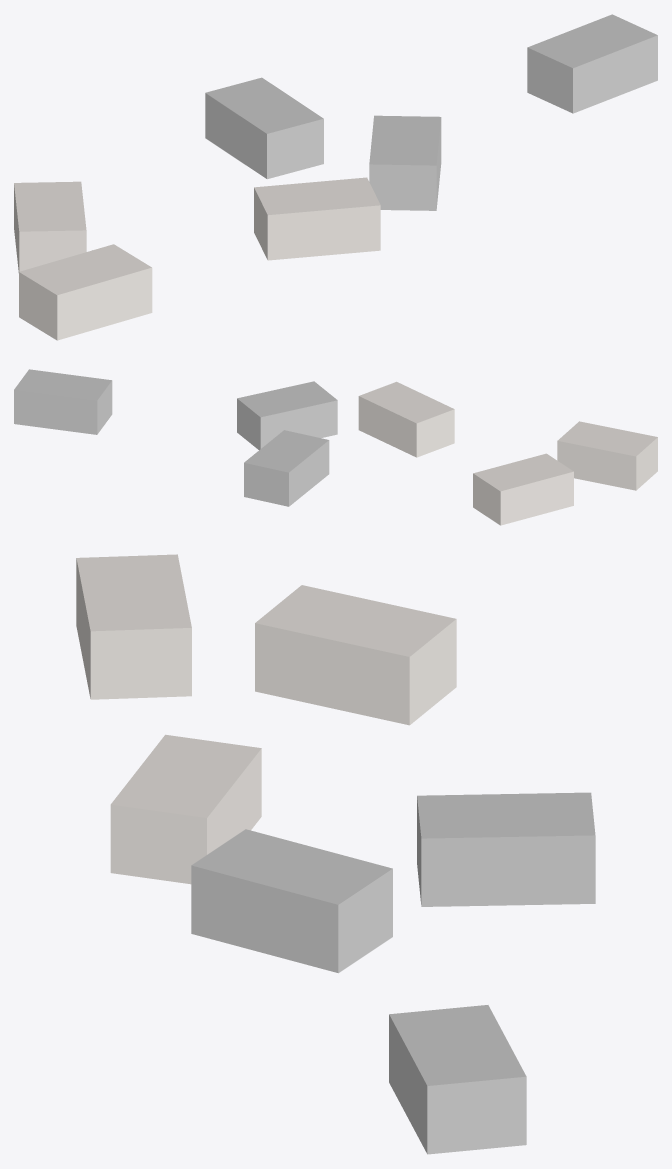
Rendered from SM_Sacos_v0_Sueltos_LOD0.fbx.
3 renders of one model, top to bottom at view 1: azimuth 30°, elevation 25°; view 2: azimuth 150°, elevation 25°; view 3: azimuth 270°, elevation 25°, orthographic. The views are drawn at different scales.
Visible parts, largest first — view 1: SM_farp_betera_v15_LOD0; view 2: SM_farp_betera_v15_LOD0; view 3: SM_farp_betera_v15_LOD0.
Boxes of the visible parts, x1=… form: SM_farp_betera_v15_LOD0: x1=14, y1=14, x2=657, y2=340; SM_farp_betera_v15_LOD0: x1=14, y1=369, x2=657, y2=525; SM_farp_betera_v15_LOD0: x1=76, y1=554, x2=595, y2=1154.
Bounding box in the file's own units: 4.33 × 0.26 × 1.79.
